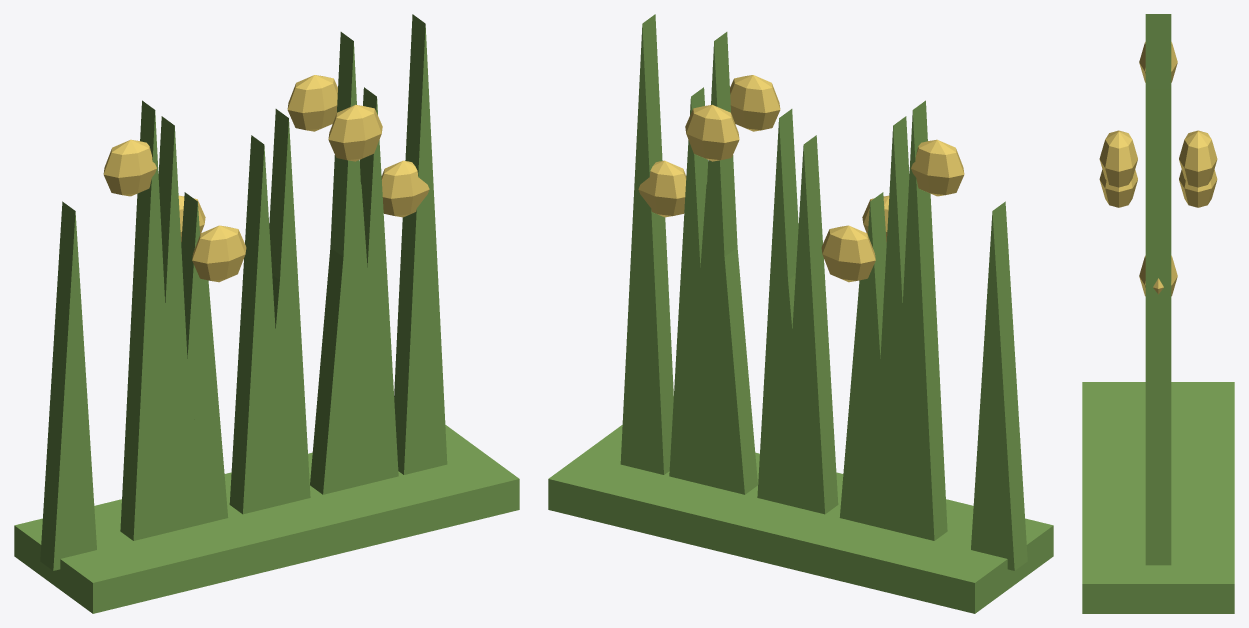
The model's file is GG-VEG-GRASS-COASTAL-TUFT-002_LOD_CLOSE.glb.
3 views of the same model, side by side, from view 1: azimuth 30°, elevation 25°; view 2: azimuth 150°, elevation 25°; view 3: azimuth 270°, elevation 25° (orthographic). The views are drawn at different scales.
Visible parts, largest first — view 1: GG_VEG_MOD_BASE_001, GG_VEG_MODULE_15, GG_VEG_MODULE_7, GG_VEG_MODULE_8, GG_VEG_MODULE_5, GG_VEG_MODULE_13, GG_VEG_MODULE_10, GG_VEG_MODULE_1, GG_VEG_MODULE_2, GG_VEG_MODULE_3, GG_VEG_MODULE_14, GG_VEG_MODULE_4 (+9 smaller); view 2: GG_VEG_MOD_BASE_001, GG_VEG_MODULE_15, GG_VEG_MODULE_7, GG_VEG_MODULE_8, GG_VEG_MODULE_5, GG_VEG_MODULE_13, GG_VEG_MODULE_2, GG_VEG_MODULE_10, GG_VEG_MODULE_1, GG_VEG_MODULE_4, GG_VEG_MODULE_3, GG_VEG_MODULE_6 (+9 smaller); view 3: GG_VEG_MOD_BASE_001, GG_VEG_MODULE_15, GG_VEG_ACCENT_2, GG_VEG_ACCENT_6, GG_VEG_MODULE_10, GG_VEG_MODULE_4, GG_VEG_MODULE_7, GG_VEG_ACCENT_3, GG_VEG_ACCENT_5, GG_VEG_ACCENT_1, GG_VEG_ACCENT_4.
Part boxes in pixels (x1,y1,x2,y2): GG_VEG_MOD_BASE_001: (14,425,519,613); GG_VEG_MODULE_15: (394,14,447,474); GG_VEG_MODULE_7: (120,100,175,540); GG_VEG_MODULE_8: (40,201,96,570); GG_VEG_MODULE_5: (229,135,285,514); GG_VEG_MODULE_13: (267,109,310,508); GG_VEG_MODULE_10: (158,116,194,532); GG_VEG_MODULE_1: (310,247,365,494); GG_VEG_MODULE_2: (355,87,398,485); GG_VEG_MODULE_3: (340,182,382,490); GG_VEG_MODULE_14: (330,185,372,492); GG_VEG_MODULE_4: (330,32,375,491); GG_VEG_MOD_BASE_001: (548,425,1053,613); GG_VEG_MODULE_15: (620,14,673,474); GG_VEG_MODULE_7: (895,100,947,540); GG_VEG_MODULE_8: (971,201,1027,570); GG_VEG_MODULE_5: (782,135,838,514); GG_VEG_MODULE_13: (757,109,800,508); GG_VEG_MODULE_2: (669,87,711,485); GG_VEG_MODULE_10: (871,116,909,532); GG_VEG_MODULE_1: (702,247,757,494); GG_VEG_MODULE_4: (694,32,737,489); GG_VEG_MODULE_3: (685,182,723,488); GG_VEG_MODULE_6: (844,278,877,523); GG_VEG_MOD_BASE_001: (1082,382,1234,613); GG_VEG_MODULE_15: (1145,122,1171,565); GG_VEG_ACCENT_2: (1179,130,1217,187); GG_VEG_ACCENT_6: (1099,130,1137,187); GG_VEG_MODULE_10: (1145,43,1171,88); GG_VEG_MODULE_4: (1145,88,1171,122); GG_VEG_MODULE_7: (1145,14,1171,42); GG_VEG_ACCENT_3: (1179,169,1217,207); GG_VEG_ACCENT_5: (1099,169,1137,207); GG_VEG_ACCENT_1: (1139,255,1177,296); GG_VEG_ACCENT_4: (1139,42,1177,82).
Bounding box in the file's own units: 0.878 × 0.9236 × 0.276.
